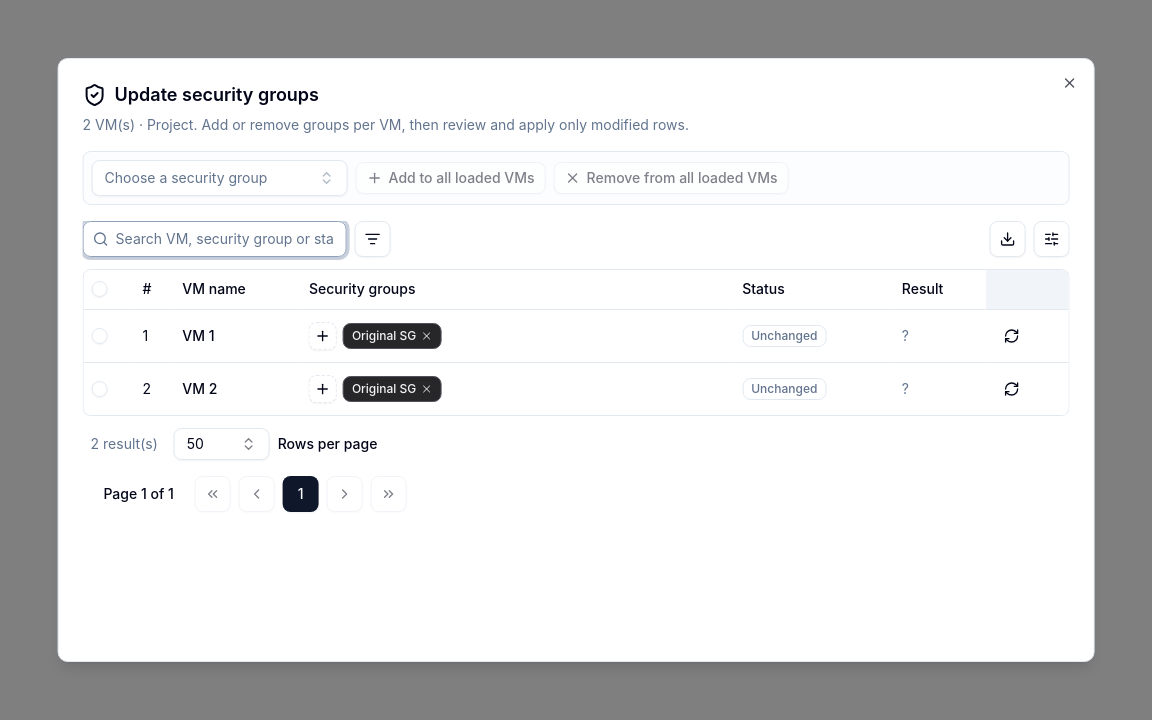
Test: loads existing SGs, confirms changes, scopes each VM request, and keeps conflicts separate
Check: the dropdown named "Add SG to VM 1" is enabled, box top-left (309, 322), bottom-right (337, 350)
Click the dropdown named "Bulk security group".
click(220, 178)  # box top-left (92, 160), bottom-right (348, 196)
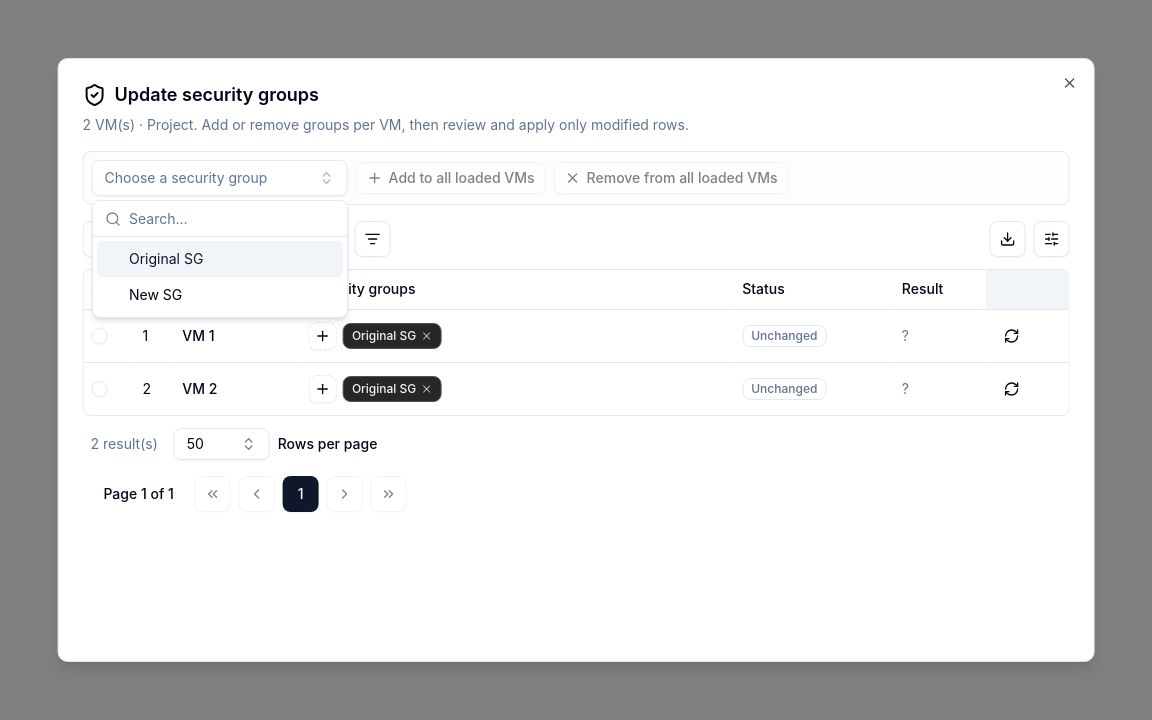
Click the option "New SG".
click(156, 294)  # box top-left (129, 286), bottom-right (182, 303)
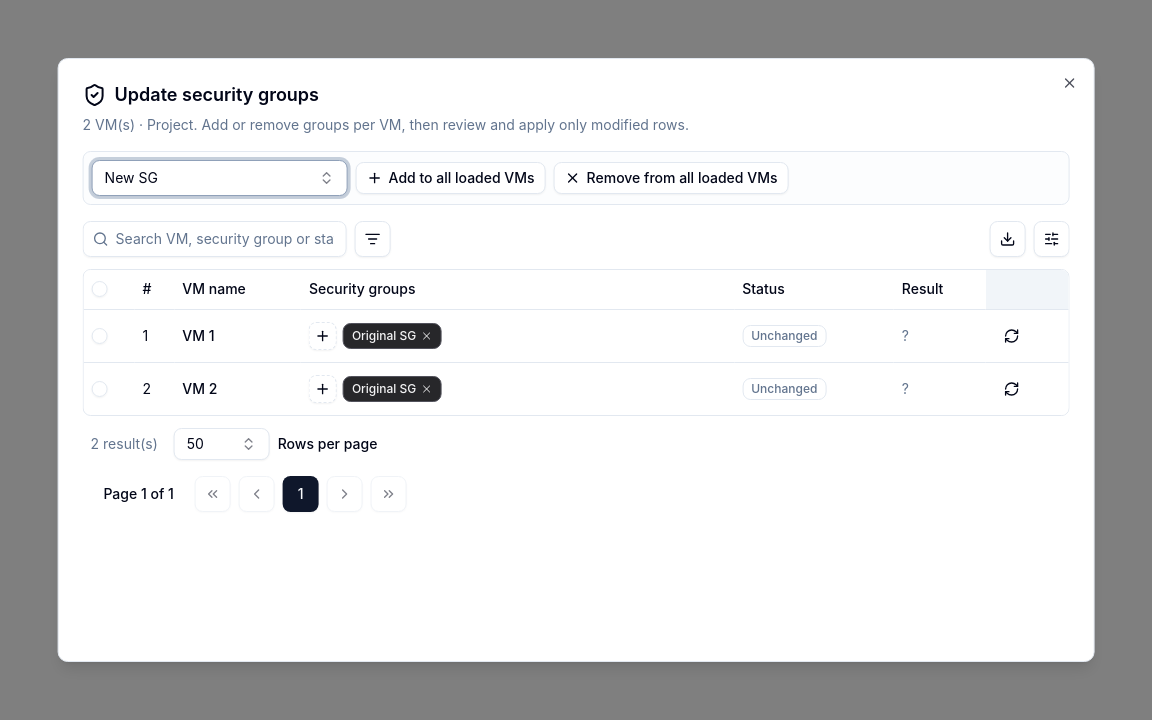
Click the button "Add to all loaded VMs".
click(451, 178)  # box top-left (356, 162), bottom-right (546, 194)
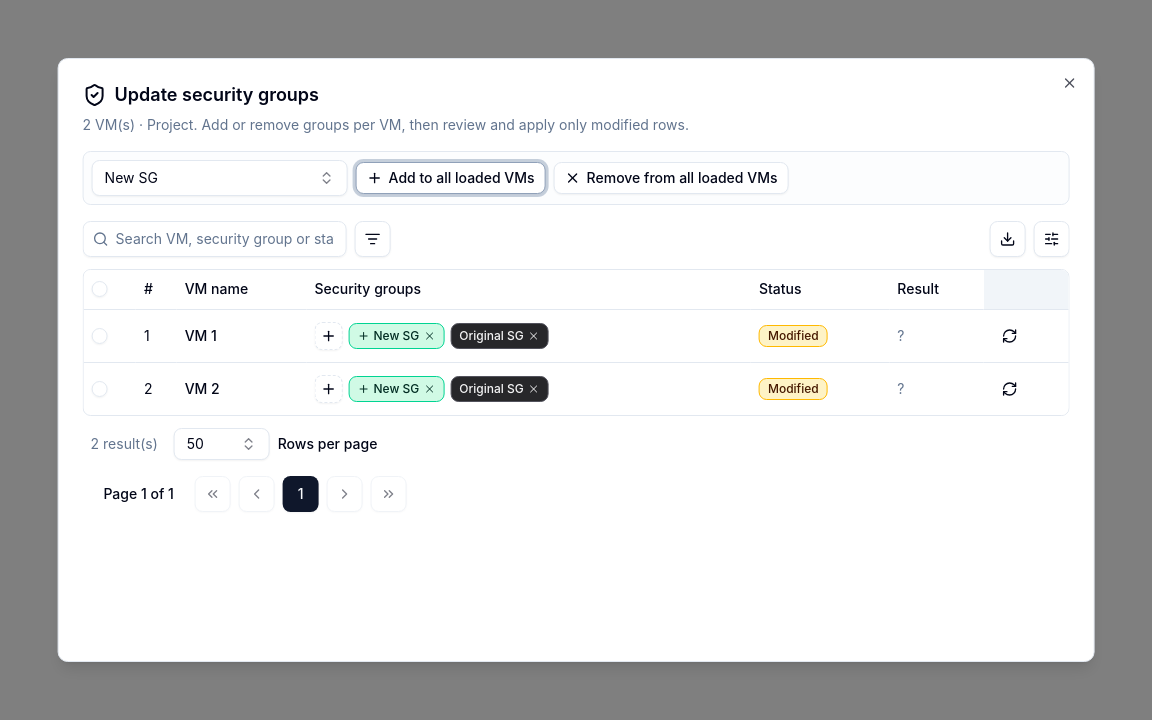
Click the checkbox named "Select all rows".
click(100, 289)  # box top-left (92, 281), bottom-right (108, 297)
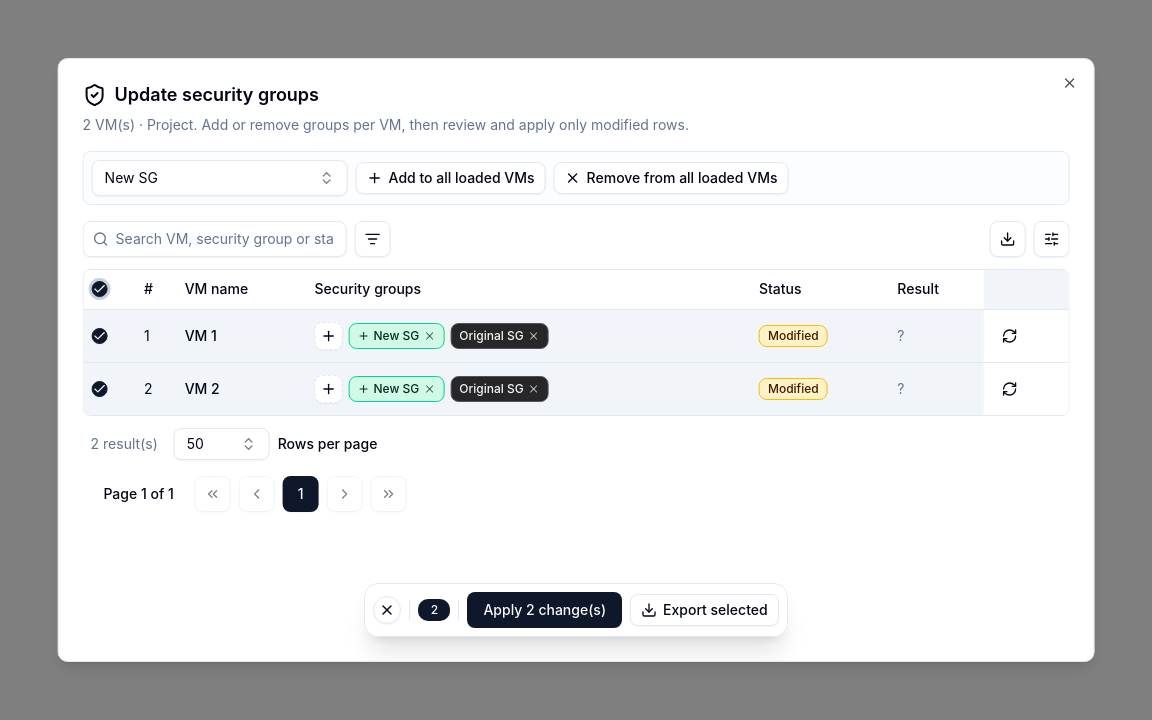
Click the button "Apply 2 change(s)".
click(545, 610)  # box top-left (467, 592), bottom-right (622, 628)
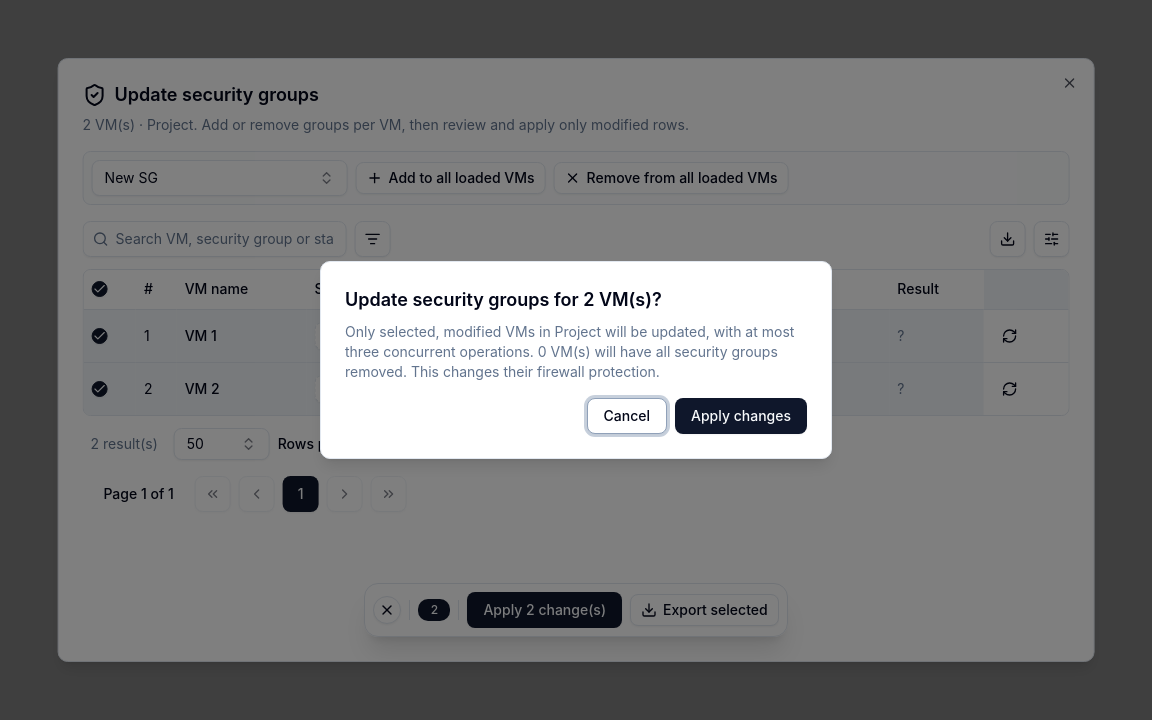
Click the button "Apply changes".
click(741, 416)  # box top-left (675, 398), bottom-right (807, 434)
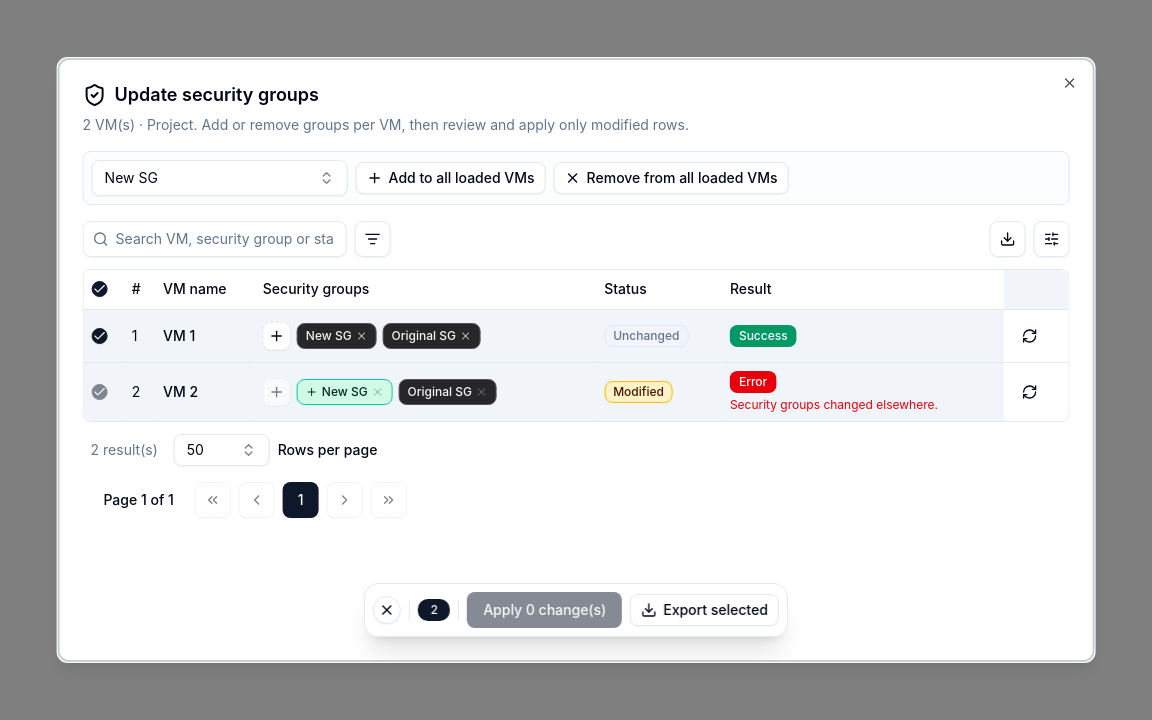
Check: the text "Modified" is shown, box top-left (604, 381), bottom-right (673, 403)
Check: the text "Unchanged" is shown, box top-left (604, 325), bottom-right (688, 347)
Check: the text "Success" is shown, box top-left (730, 325), bottom-right (797, 347)
